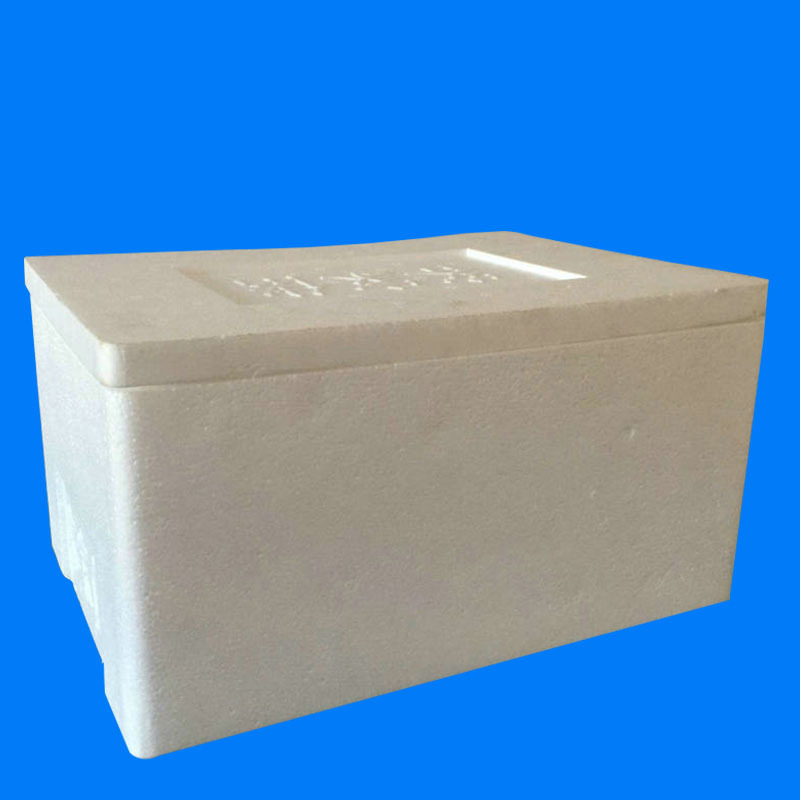Boxes: (25, 232, 767, 757)
